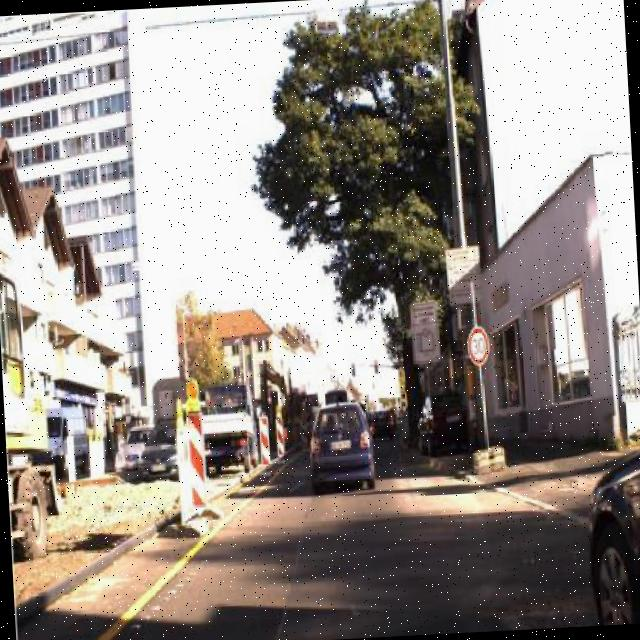Ograniczenie predkosci do 30: (465, 323, 492, 369)
